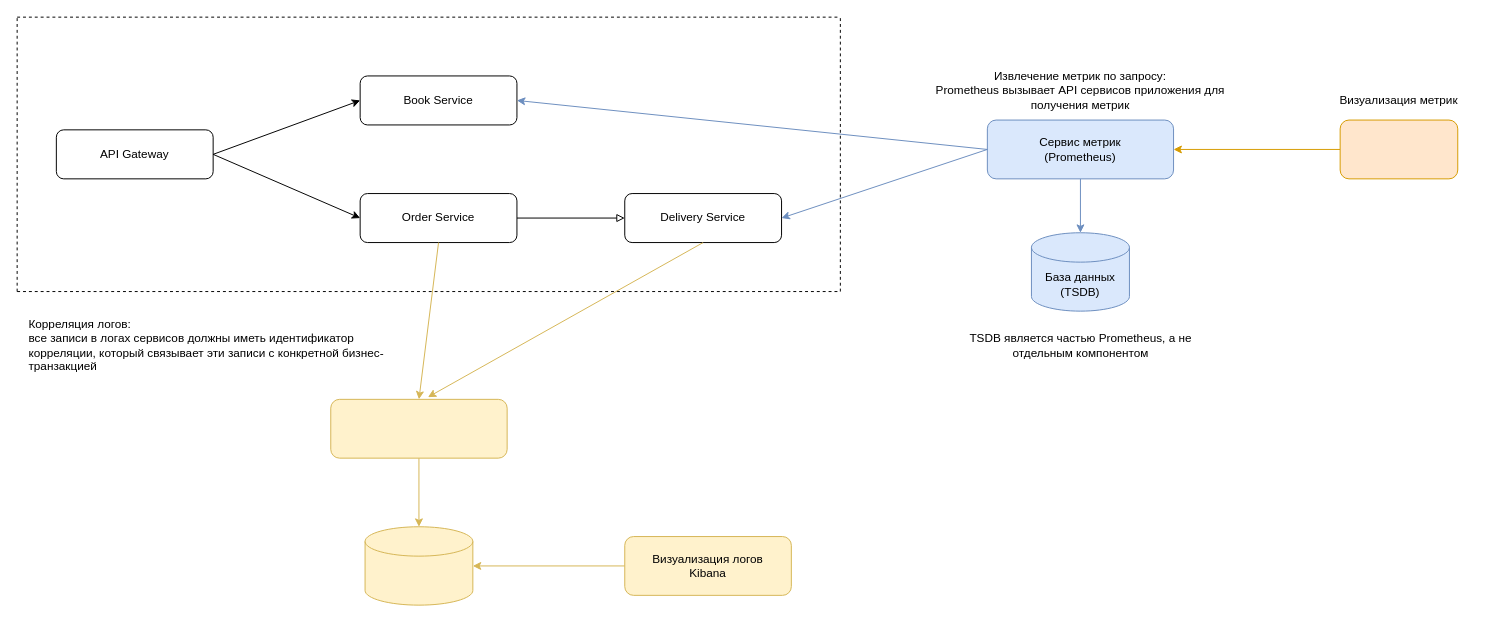
Some shapes in this 1490 by 622 pixel diagram are drawn without their labels. Each missing label, with the centre of its shape:
Grafana: (x=1398, y=149)
База данных Elasticsearch: (x=418, y=565)
Обработка логов Logstash: (x=418, y=428)
